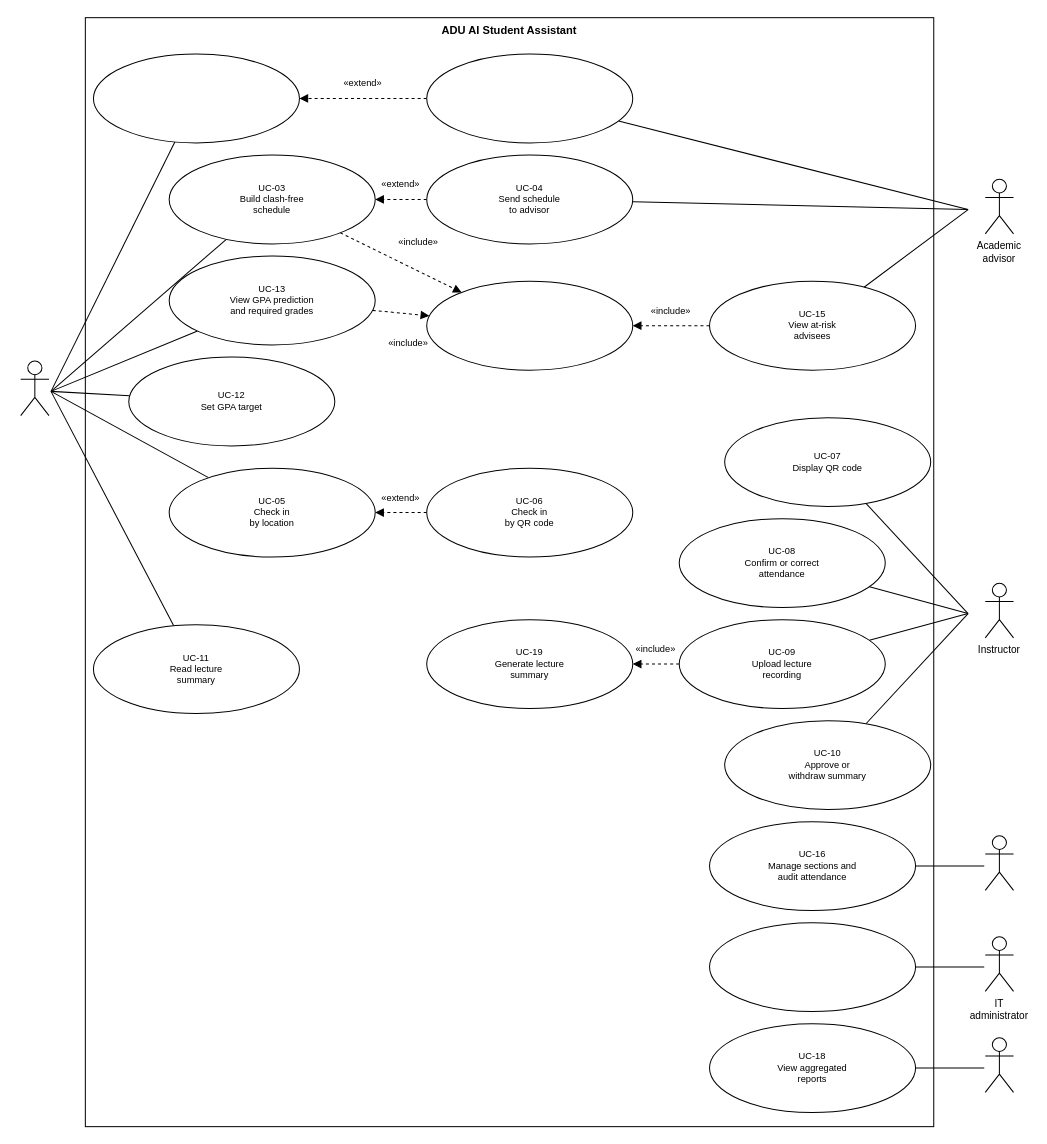
The diagram is 1047 pixels wide and 1144 high, and some of its shapes have lost their labels. The centre of each missing label's shape, as x and y in pixels:
"Registrar's Office" belongs at (999,862).
"Student" belongs at (34,388).
"UC-01 Ask registration question" belongs at (195,98).
"UC-02 Refer question to advisor" belongs at (529,98).
"UC-14 Predict GPA and send warnings" belongs at (529,325).
"UC-17 Manage accounts, roles and geofences" belongs at (812,967).
"University management" belongs at (999,1064).
